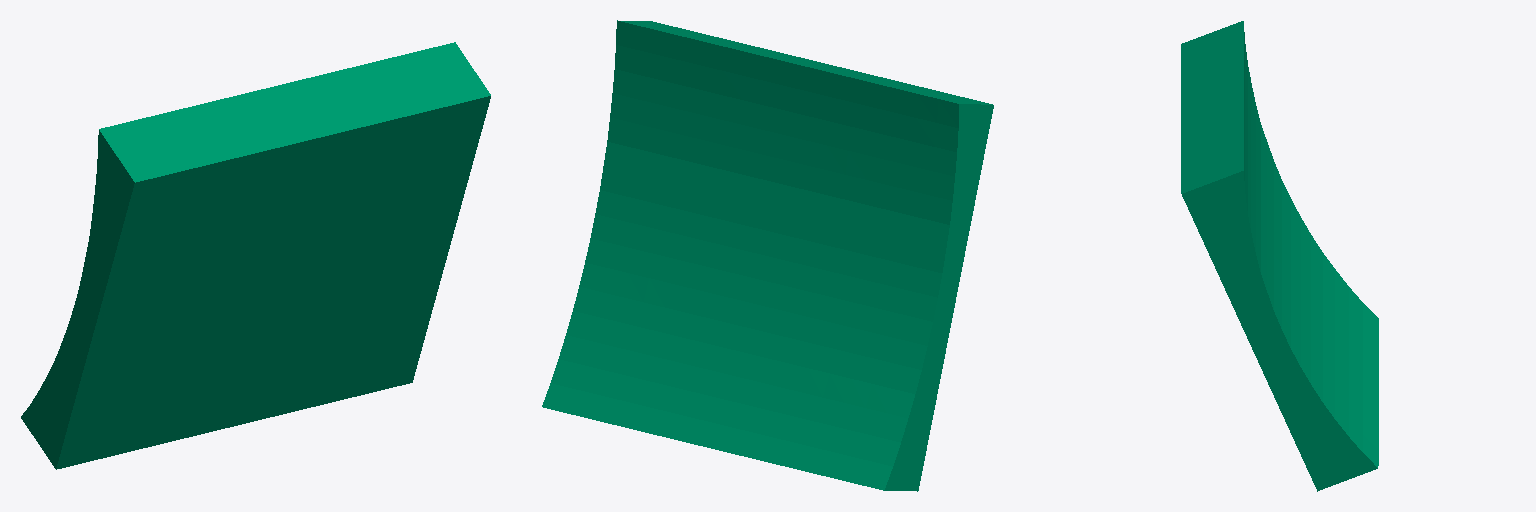
The robot description file, URDF, robot "satellite_9":
<?xml version='1.0' encoding='utf-8'?>
<robot name="satellite_9">
  <link name="base_link">
    <visual>
      <geometry>
        <mesh filename="satellite.stl" />
      </geometry>
    </visual>
    <collision>
      <geometry>
        <mesh filename="satellite.stl" />
      </geometry>
    </collision>
  </link>
  <link name="satellite_9_mount" />
  <joint name="satellite_mount_fixed" type="fixed">
    <parent link="base_link" />
    <child link="satellite_9_mount" />
    <origin xyz="0.613773162348958 -4.00767726065443 2.343015079491069" rpy="3.141592653589793 -1.1777297939944262 -1.5706291085819188" />
  </joint>
  <link name="mount_support">
    <visual>
      <geometry>
        <mesh filename="mount_support.stl" />
      </geometry>
    </visual>
    <collision>
      <geometry>
        <mesh filename="mount_support.stl" />
      </geometry>
    </collision>
  </link>
  <joint name="support_fixed" type="fixed">
    <parent link="satellite_9_mount" />
    <child link="mount_support" />
    <origin xyz="0 0 0" rpy="0 0 0" />
  </joint>
</robot>

--- Render facts (derived) ---
The picture shows the robot from 3 angles, left to right: view 1: azimuth 30°, elevation 25°; view 2: azimuth 150°, elevation 25°; view 3: azimuth 270°, elevation 25°; orthographic projection.
Robot: satellite_9 — 3 links, 2 joints (2 fixed); root link base_link; default pose: all joints at 0.
Visible links, largest first — view 1: mount_support; view 2: mount_support; view 3: mount_support.
Boxes of the visible links, x1=… form: mount_support: x1=21, y1=42, x2=490, y2=469; mount_support: x1=542, y1=20, x2=993, y2=491; mount_support: x1=1181, y1=21, x2=1378, y2=491.
Bounding box of the posed robot: 0.4 × 0.2222 × 0.3986 m (x, y, z).
1 mesh visuals loaded from 2 distinct referenced files (1 binary STL); not drawn: 1 (reference not matched to a file when rendering).
